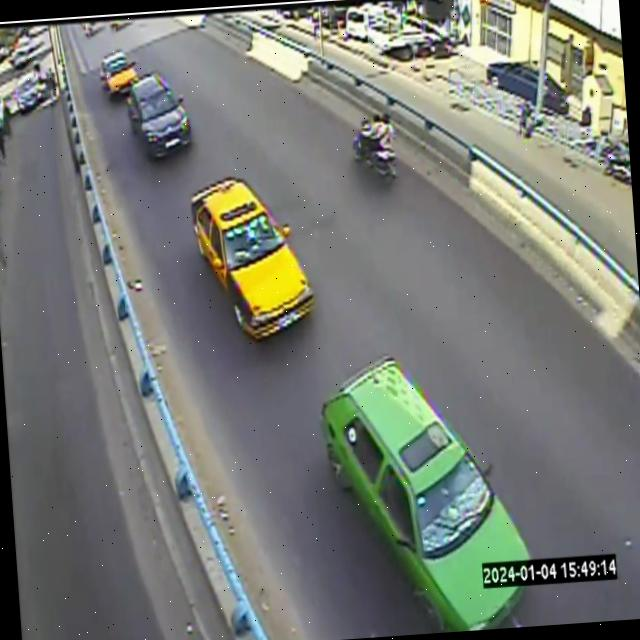car: (320, 357, 531, 630), (190, 177, 313, 338), (127, 72, 190, 157), (99, 50, 137, 95)
